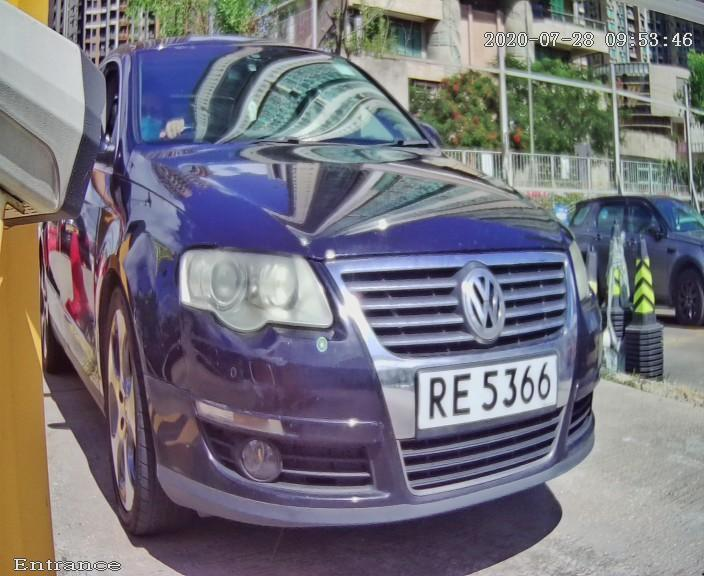privatecar: (16, 16, 667, 561)
